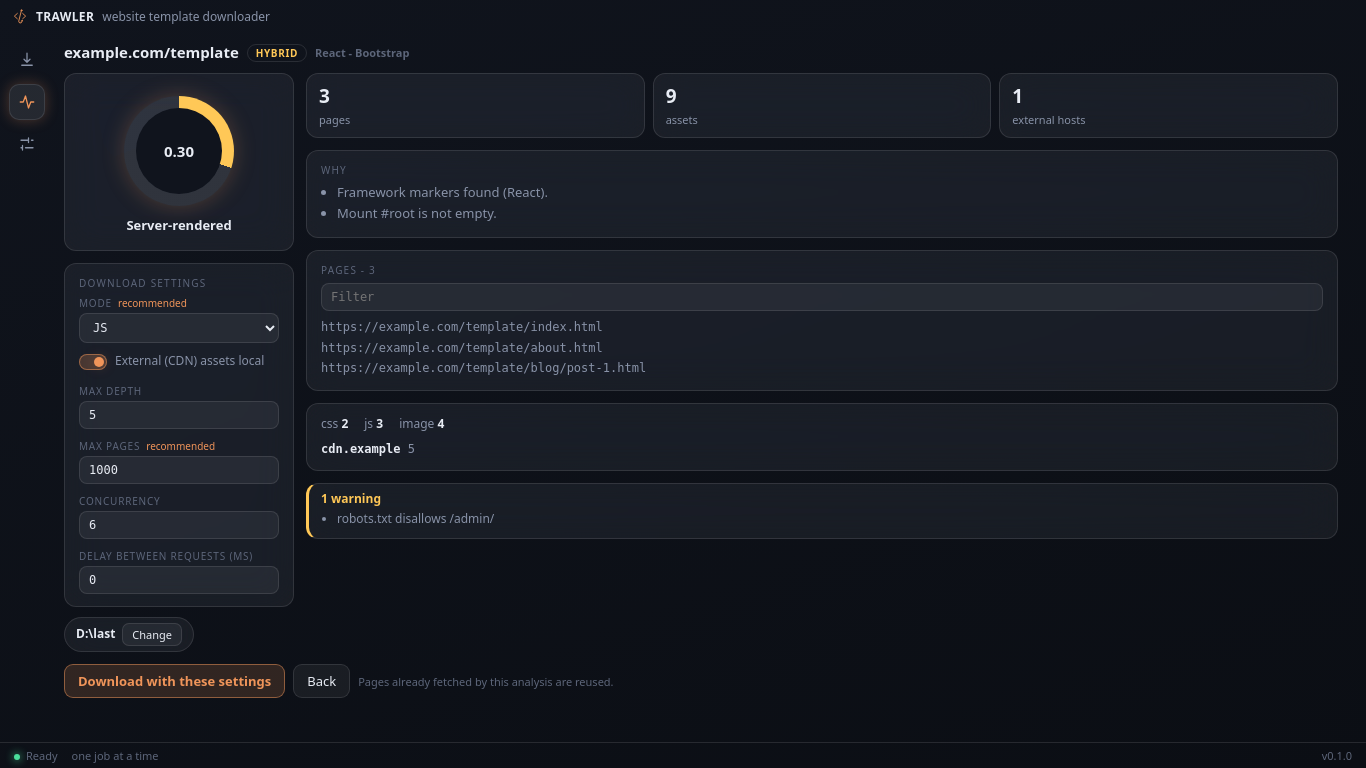
Test case: Analysis screen › offers the last used folder and goes back to the start screen
Expected: the text "D:\\last" is shown, [76,626,115,643]
Click the button "Back": [322, 681] box [293,664,350,698]
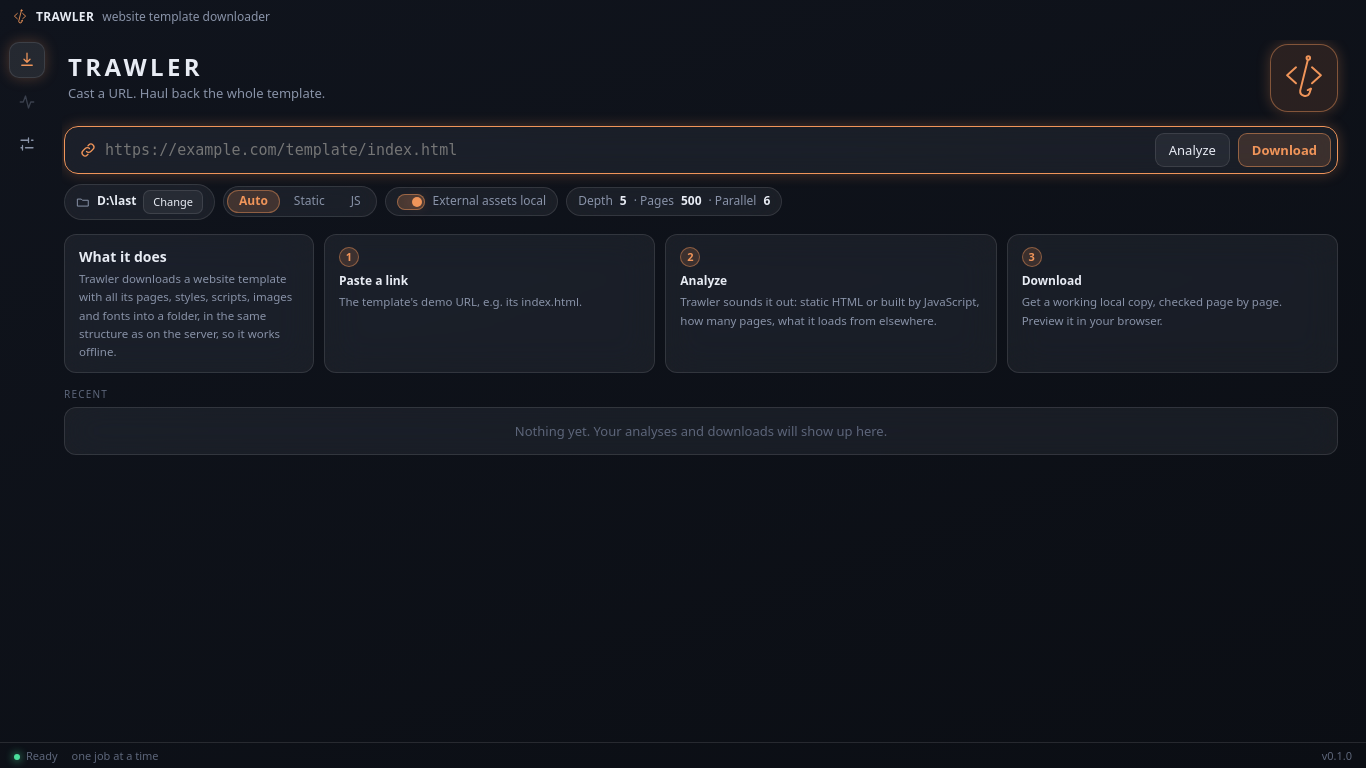
Now the button "Analyze" is shown, box [1155,133,1230,167]
